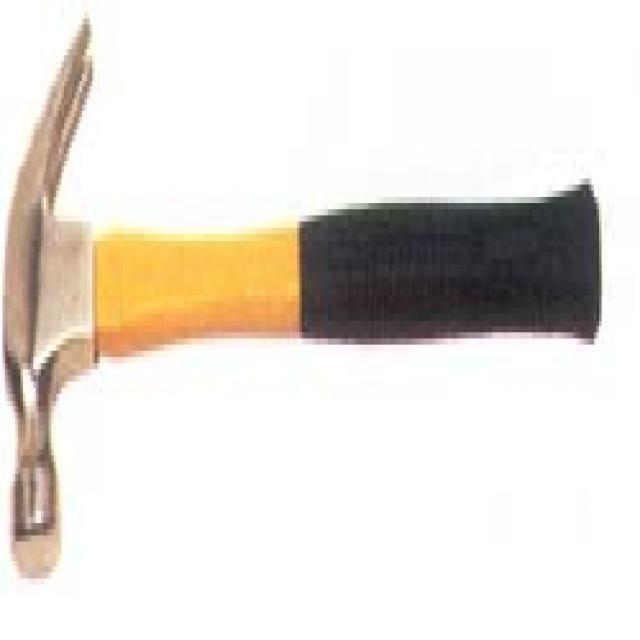hammer: (2, 25, 616, 629)
